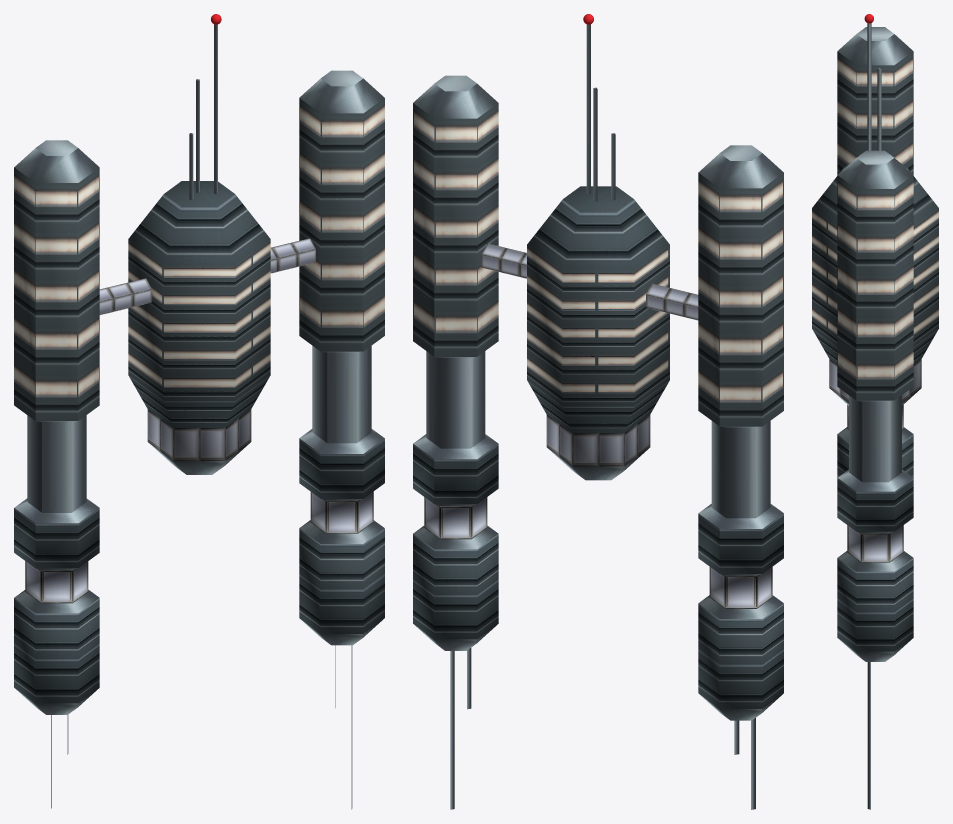
Rendered from puestoObservacion4.obj.
3 views of the same model, side by side, from view 1: azimuth 30°, elevation 25°; view 2: azimuth 150°, elevation 25°; view 3: azimuth 270°, elevation 25° (orthographic). The views are drawn at different scales.
Parts seen in each view (by area): view 1: FARBIL01_gxmat129, FARBIL01_gxmat145, FARBIL01_gxmat143, FARBIL01_gxmat135, FARBIL01_gxmat147, FARBIL01_gxmat132, FARBIL01_gxmat138, FARBIL01_gxmat149, FARBIL01_gxmat141; view 2: FARBIL01_gxmat129, FARBIL01_gxmat143, FARBIL01_gxmat145, FARBIL01_gxmat135, FARBIL01_gxmat147, FARBIL01_gxmat132, FARBIL01_gxmat138, FARBIL01_gxmat149, FARBIL01_gxmat141; view 3: FARBIL01_gxmat129, FARBIL01_gxmat143, FARBIL01_gxmat145, FARBIL01_gxmat135, FARBIL01_gxmat147, FARBIL01_gxmat132, FARBIL01_gxmat141, FARBIL01_gxmat138.
Part boxes in pixels (box(x1,y1,x2,y2)): FARBIL01_gxmat129: box(14, 98, 384, 420); FARBIL01_gxmat145: box(14, 438, 384, 703); FARBIL01_gxmat143: box(14, 70, 384, 809); FARBIL01_gxmat135: box(128, 239, 270, 400); FARBIL01_gxmat147: box(128, 181, 270, 427); FARBIL01_gxmat132: box(25, 491, 373, 603); FARBIL01_gxmat138: box(147, 409, 251, 460); FARBIL01_gxmat149: box(99, 238, 315, 314); FARBIL01_gxmat141: box(189, 24, 217, 200); FARBIL01_gxmat129: box(413, 103, 783, 426); FARBIL01_gxmat143: box(413, 75, 783, 809); FARBIL01_gxmat145: box(413, 444, 783, 708); FARBIL01_gxmat135: box(527, 244, 669, 406); FARBIL01_gxmat147: box(527, 186, 669, 433); FARBIL01_gxmat132: box(424, 497, 772, 608); FARBIL01_gxmat138: box(546, 414, 650, 466); FARBIL01_gxmat149: box(481, 243, 698, 320); FARBIL01_gxmat141: box(586, 24, 615, 201); FARBIL01_gxmat129: box(837, 51, 913, 400); FARBIL01_gxmat143: box(830, 27, 920, 809); FARBIL01_gxmat145: box(837, 434, 913, 651); FARBIL01_gxmat135: box(812, 208, 938, 346); FARBIL01_gxmat147: box(812, 162, 938, 364); FARBIL01_gxmat132: box(847, 405, 903, 562); FARBIL01_gxmat141: box(867, 23, 881, 150); FARBIL01_gxmat138: box(829, 359, 921, 402).
Size of the model in its own units: 163 by 368 by 57.52.
